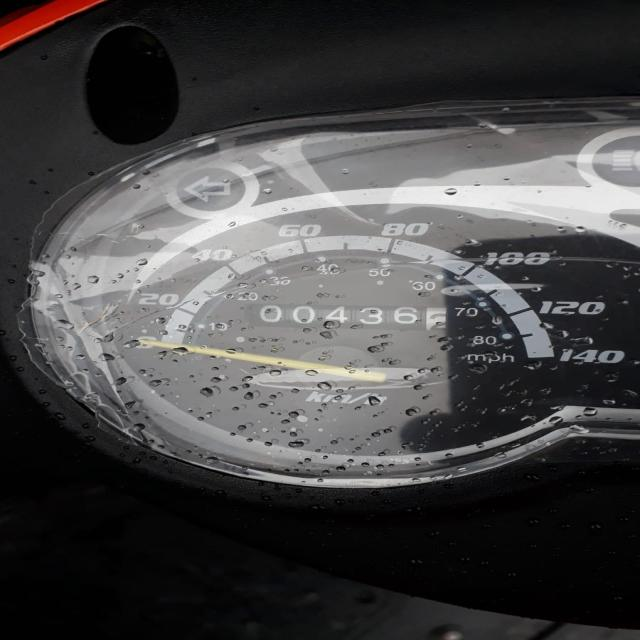odometer: (240, 302, 450, 332)
